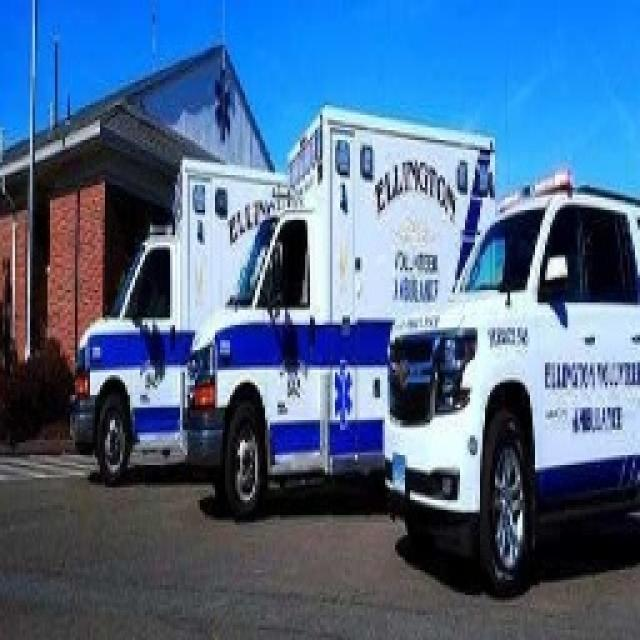emergency-vehicle: (381, 164, 640, 596), (198, 108, 380, 520), (66, 142, 210, 478)
